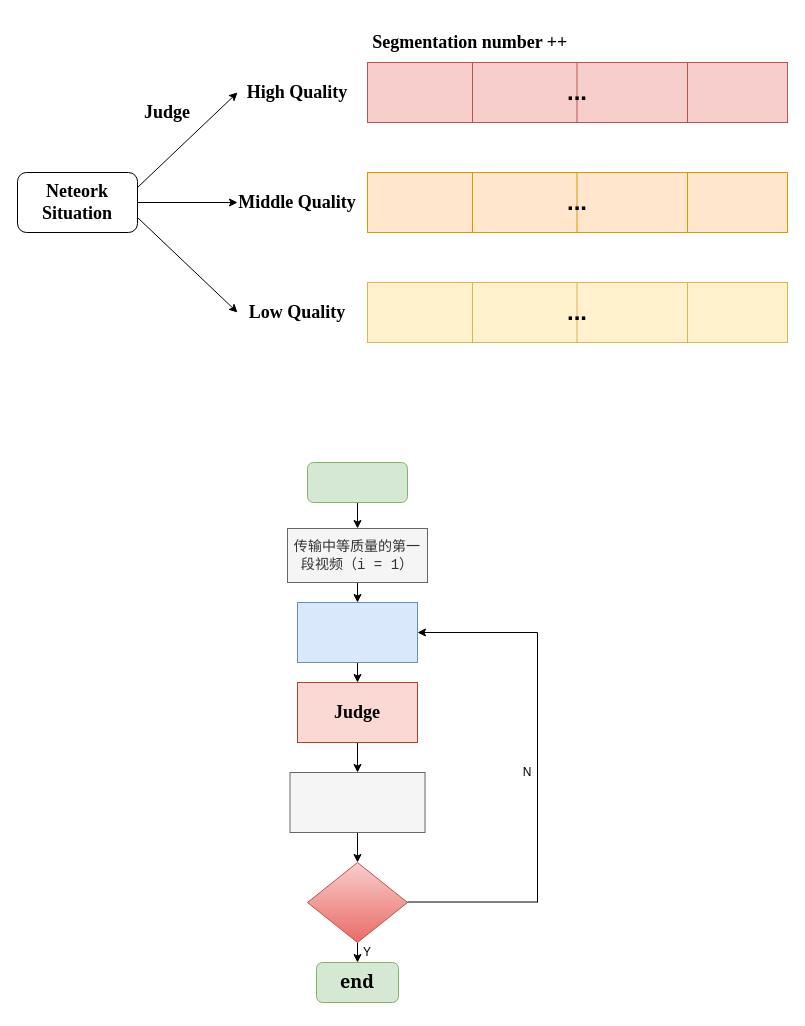
Some shapes in this 805 by 1026 pixel diagram are drawn without their labels. Here are the shapes that lost their labels. From the top down, the centre of each, then its label:
(357,482): 前期准备
(357,632): 判断当前网络环境
(357,802): 传输下一段 高/中/低 质量视频（i++）
(357,902): 观看完毕？
